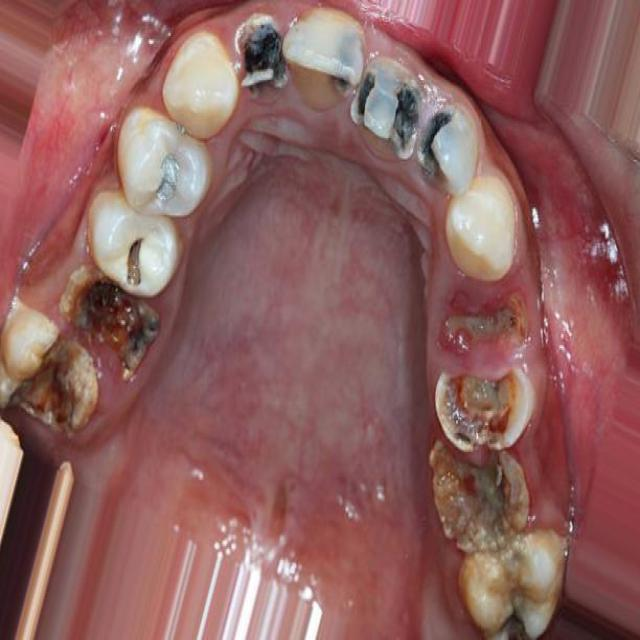caries: (420, 440, 536, 559), (0, 320, 106, 446), (58, 270, 160, 376), (428, 362, 537, 454), (465, 539, 547, 640), (347, 55, 418, 162), (224, 8, 296, 107), (126, 128, 198, 215), (416, 107, 480, 200), (439, 297, 524, 352), (106, 215, 155, 292), (313, 23, 360, 100)
